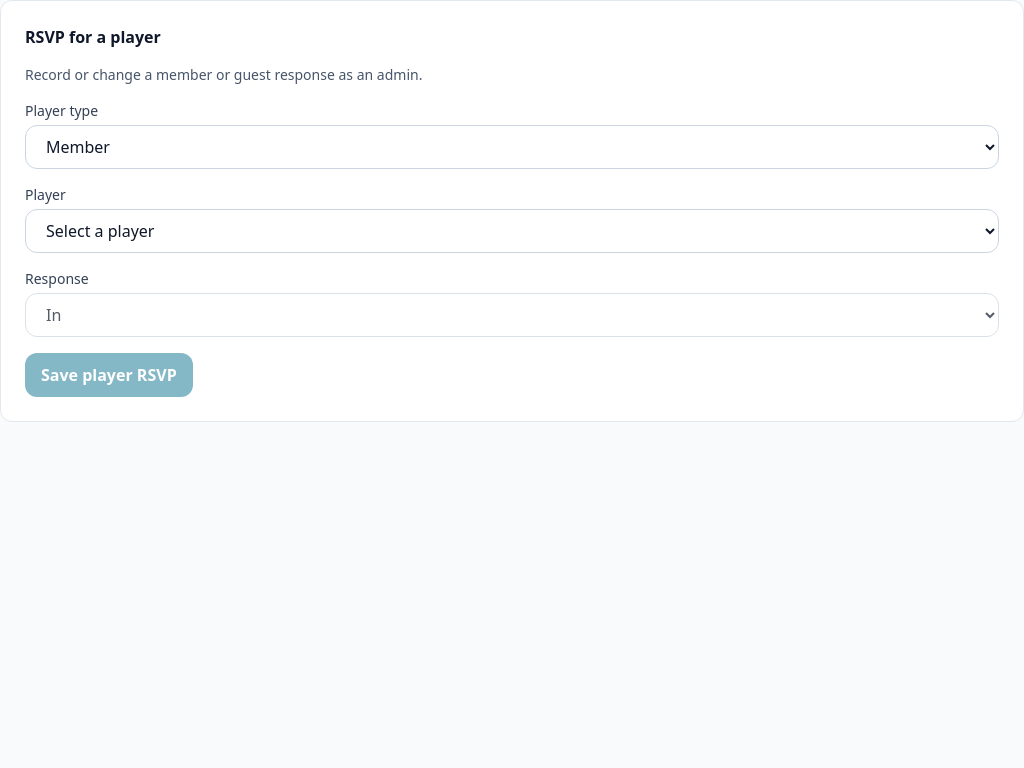
it: reports a failed save
The width and height of the screenshot is (1024, 768).
Select "Guest" in the dropdown labelled "Player type" at (512, 147), box [25,125,999,169]
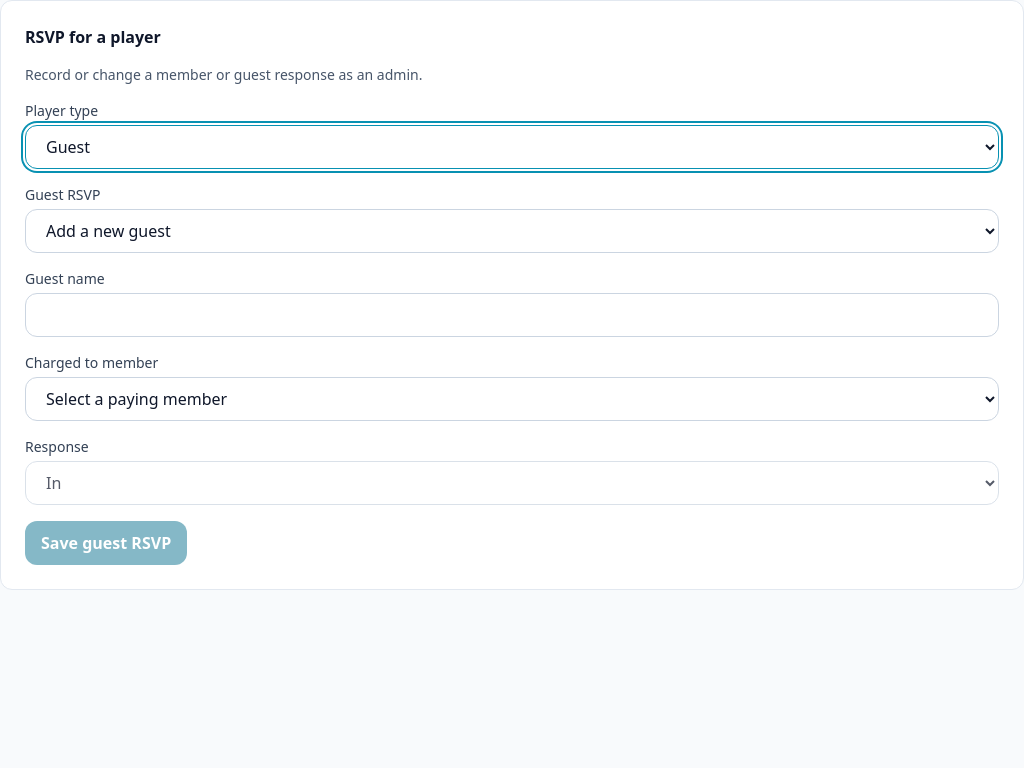
Select "Alex (In) · Pat" in the dropdown labelled "Guest RSVP" at (512, 231), box [25,209,999,253]
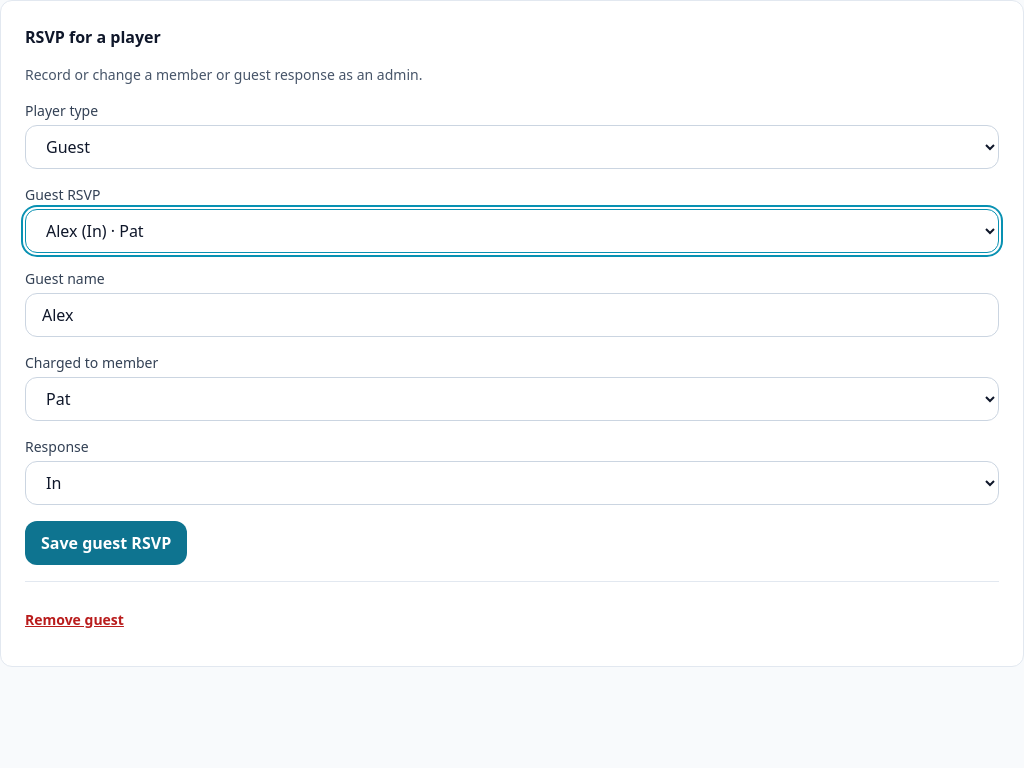
Click the button "Save guest RSVP" at (106, 543), box [25,521,187,565]
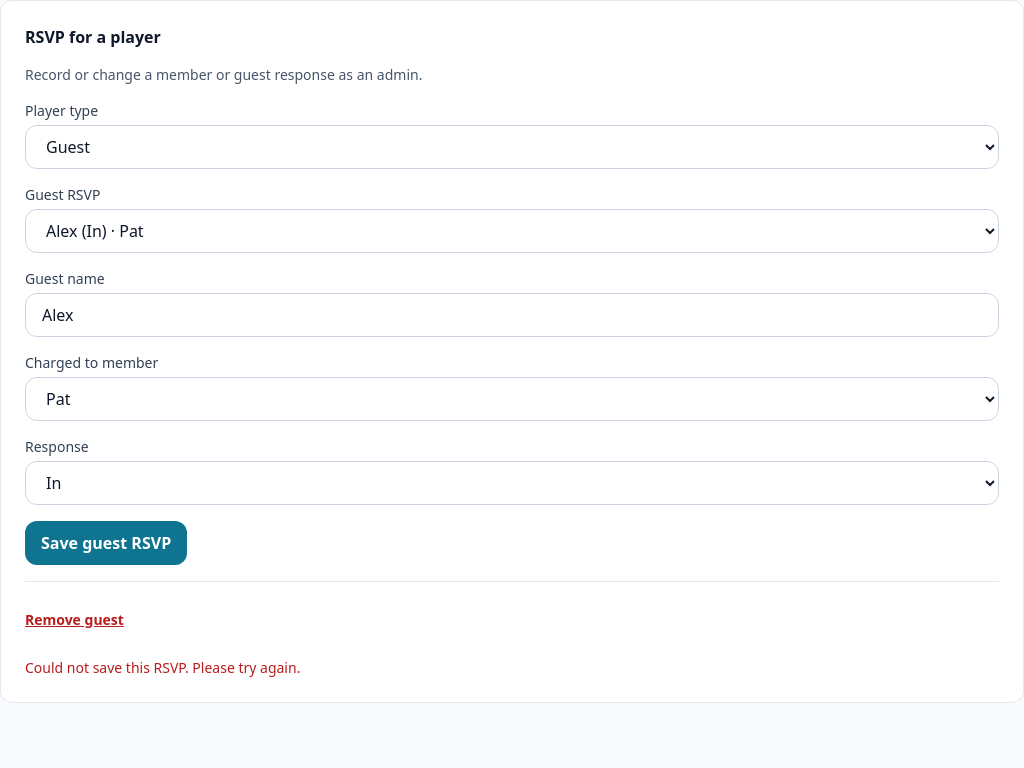
Expected: the message shows "Could not save this RSVP", [25,658,300,677]
